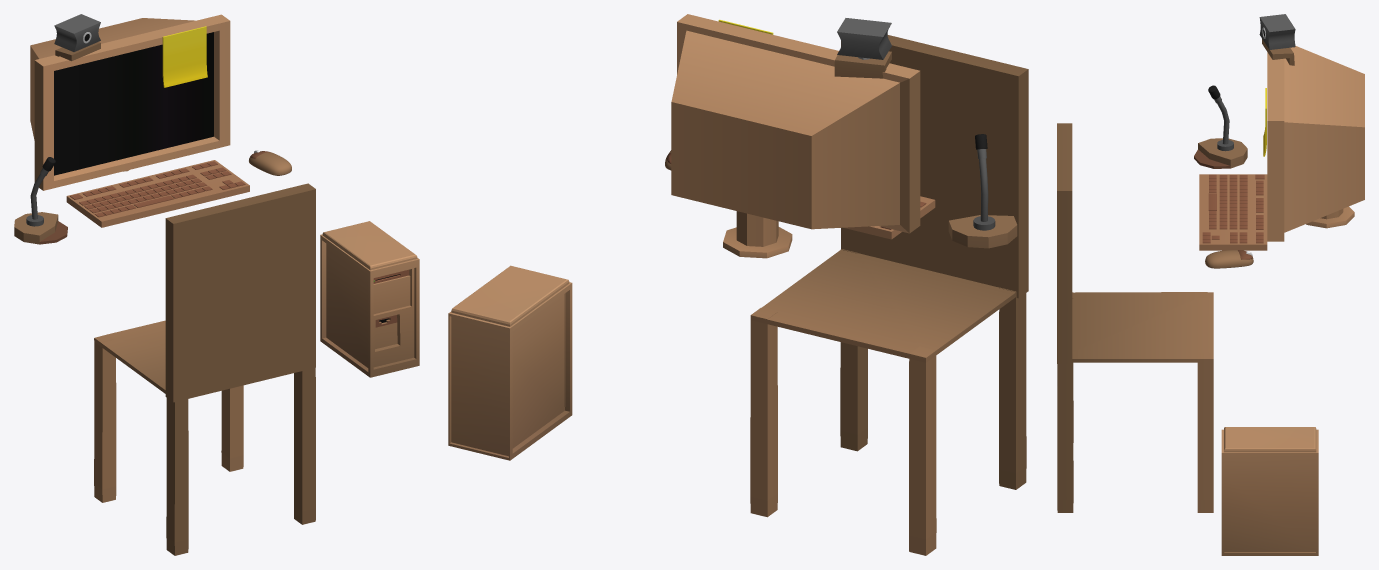
Rendered from Pack1Simulator.fbx.
The picture shows the model from 3 angles, left to right: view 1: azimuth 30°, elevation 25°; view 2: azimuth 150°, elevation 25°; view 3: azimuth 270°, elevation 25°; orthographic projection. The views are drawn at different scales.
Parts seen in each view (by area): view 1: Cube.025, Cube.020, Cube.021, Cube.019, Cube.002, Plane.006, Cube.015, Cylinder.004, Cylinder.001, Plane.014, Cylinder.005; view 2: Cube.025, Cube.019, Cube.021, Cylinder.004, Cylinder.001, Cylinder.005; view 3: Cube.025, Cube.019, Cube.021, Cube.002, Cube.015, Cylinder.004, Cylinder.001, Plane.014, Cylinder.005.
Boxes of the visible parts, x1,y1,x2,y2 form: Cube.025: (94, 183, 315, 555); Cube.020: (54, 32, 213, 175); Cube.021: (320, 221, 419, 377); Cube.019: (30, 14, 230, 190); Cube.002: (66, 160, 249, 227); Plane.006: (162, 26, 207, 87); Cube.015: (79, 174, 207, 213); Cylinder.004: (54, 14, 100, 61); Cylinder.001: (14, 212, 58, 244); Plane.014: (249, 152, 291, 175); Cylinder.005: (26, 168, 48, 226); Cube.025: (750, 35, 1028, 555); Cube.019: (671, 14, 920, 258); Cube.021: (448, 265, 572, 460); Cylinder.004: (834, 18, 891, 78); Cylinder.001: (948, 215, 1017, 248); Cylinder.005: (973, 149, 995, 230); Cube.025: (1057, 123, 1213, 512); Cube.019: (1267, 45, 1364, 241); Cube.021: (1221, 427, 1318, 555); Cube.002: (1199, 174, 1267, 250); Cube.015: (1219, 175, 1247, 229); Cylinder.004: (1259, 14, 1295, 65); Cylinder.001: (1198, 138, 1247, 168); Plane.014: (1205, 250, 1253, 268); Cylinder.005: (1214, 96, 1233, 151).
Size of the model in its own units: 112 by 118 by 76.35.
